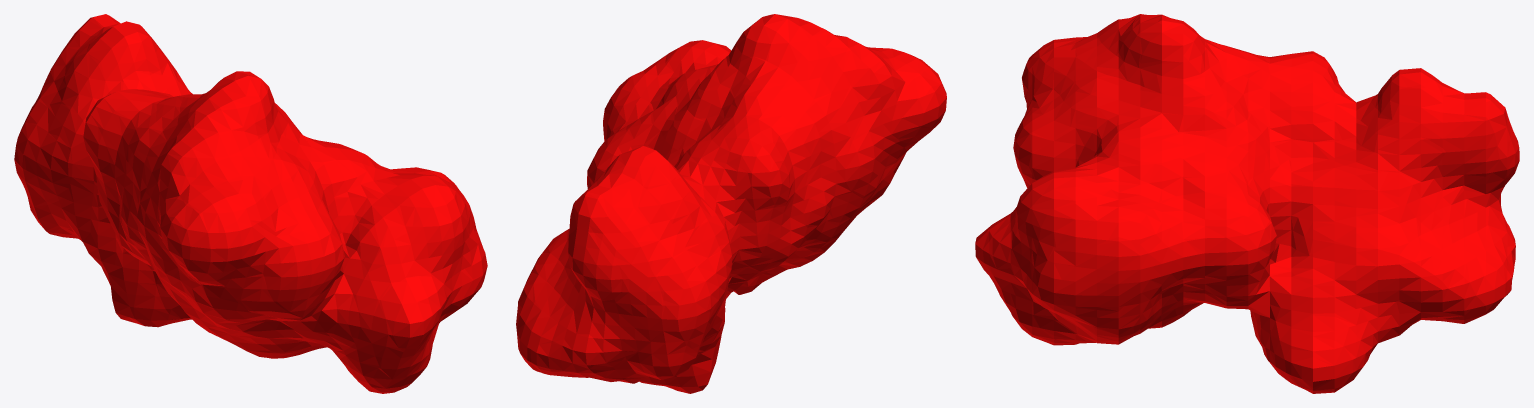
Rendered from modC_coarse.dae.
3 views of the same model, side by side, from view 1: azimuth 30°, elevation 25°; view 2: azimuth 150°, elevation 25°; view 3: azimuth 270°, elevation 25° (orthographic). The views are drawn at different scales.
Parts seen in each view (by area): view 1: modC; view 2: modC; view 3: modC.
Boxes of the visible parts, <box> form: modC: <box>14,14,487,393</box>; modC: <box>516,14,946,393</box>; modC: <box>975,14,1519,393</box>.
Bounding box in the file's own units: 53.28 × 51.83 × 82.01.
